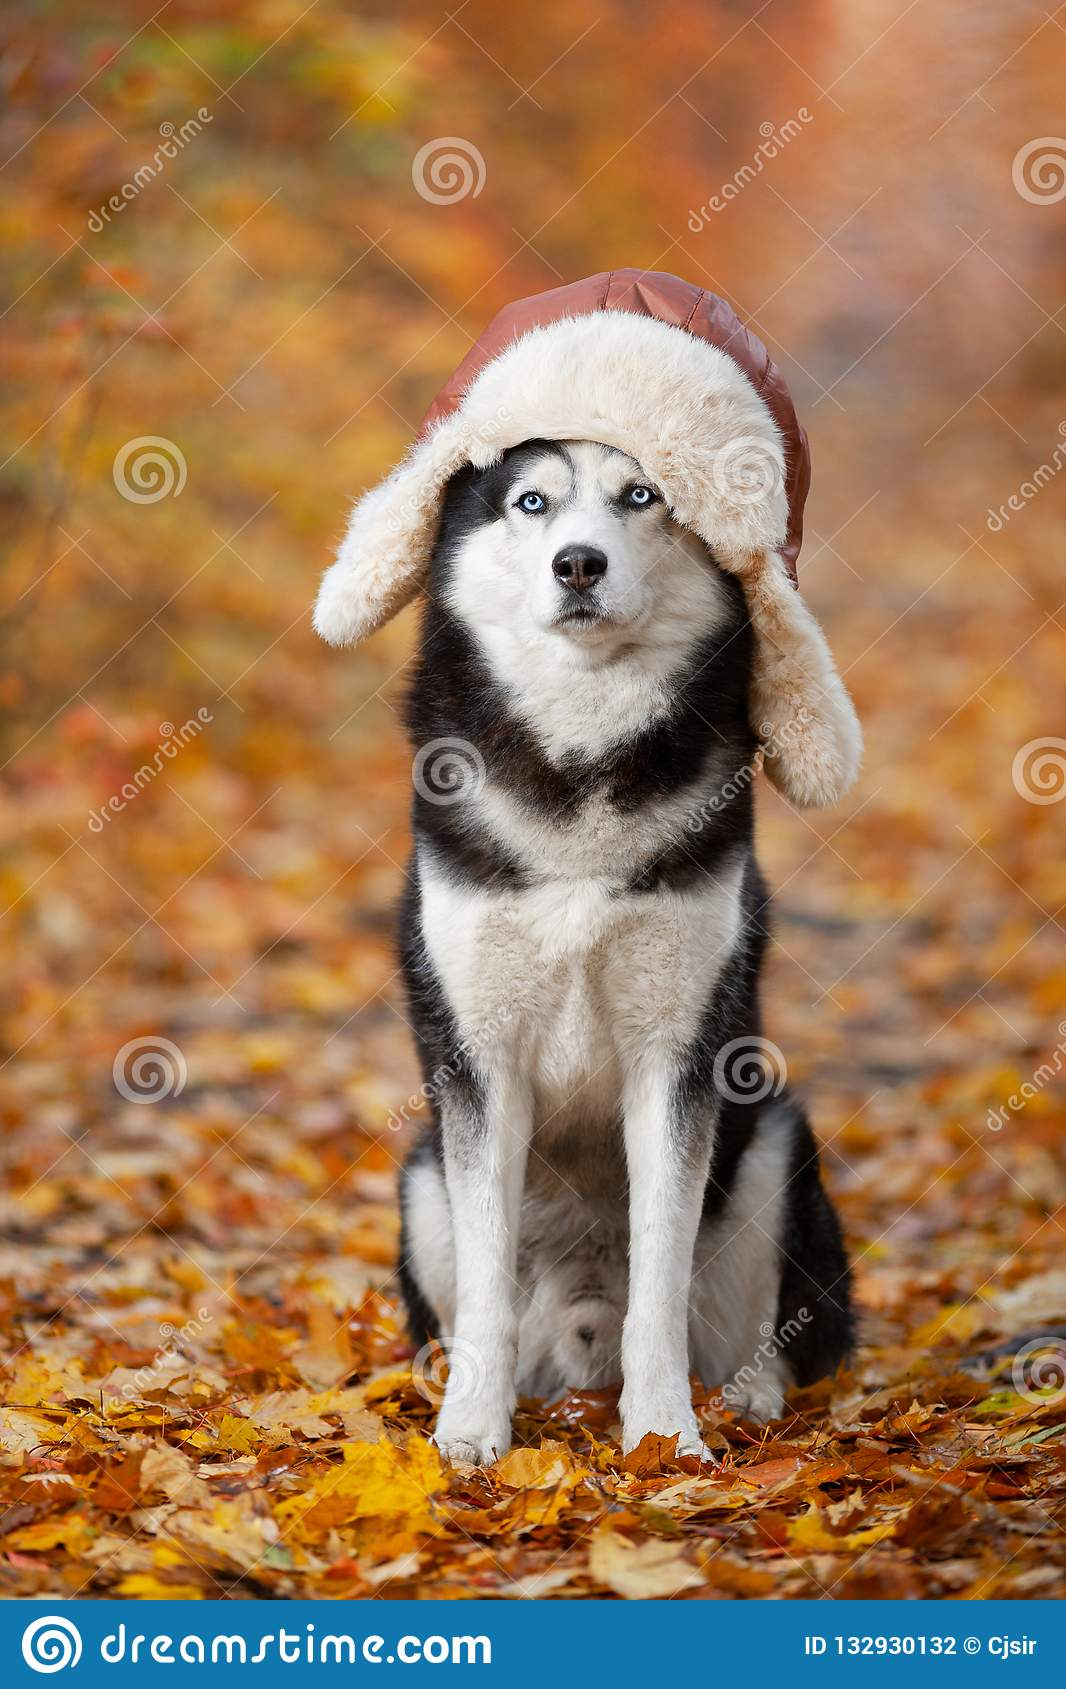husky: (359, 398, 808, 1518)
